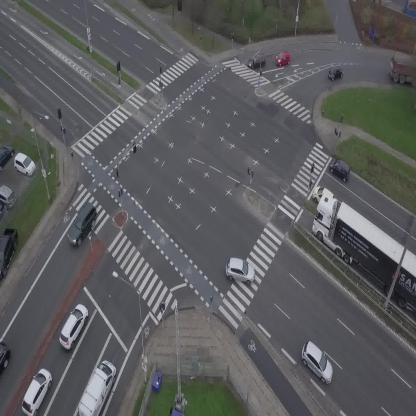car: (293, 339, 342, 386), (61, 201, 104, 249), (17, 366, 56, 416), (55, 302, 93, 351), (223, 256, 257, 285), (326, 155, 354, 182), (310, 182, 335, 203), (245, 52, 267, 69), (325, 64, 345, 82), (0, 342, 10, 374), (274, 50, 292, 66)
lorry: (74, 357, 121, 416), (391, 52, 416, 87)
